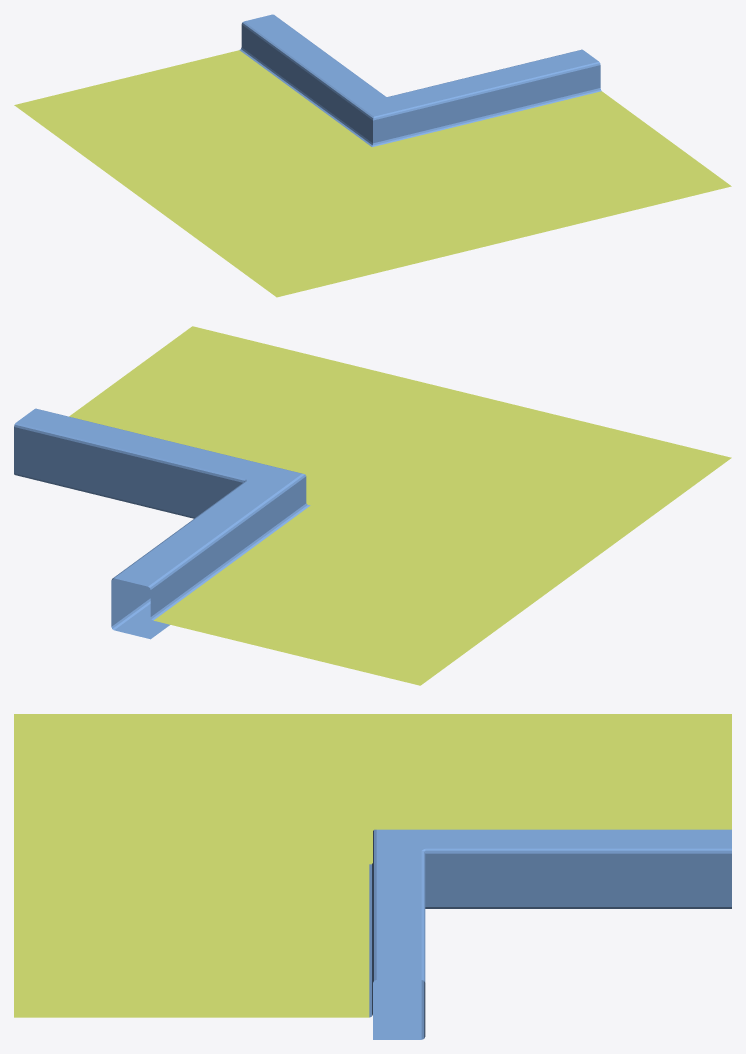
Rendered from Roof_1_Corner_Inner.fbx.
3 renders of one model, top to bottom at view 1: azimuth 30°, elevation 25°; view 2: azimuth 150°, elevation 25°; view 3: azimuth 270°, elevation 25°, orthographic. The views are drawn at different scales.
Visible parts, largest first — view 1: Roof_1_Corner_Inner; view 2: Roof_1_Corner_Inner; view 3: Roof_1_Corner_Inner.
Boxes of the visible parts, <box> form: Roof_1_Corner_Inner: <box>14,14,731,297</box>; Roof_1_Corner_Inner: <box>14,326,731,685</box>; Roof_1_Corner_Inner: <box>14,714,731,1039</box>.
Size of the model in its own units: 400 by 36.85 by 400.
